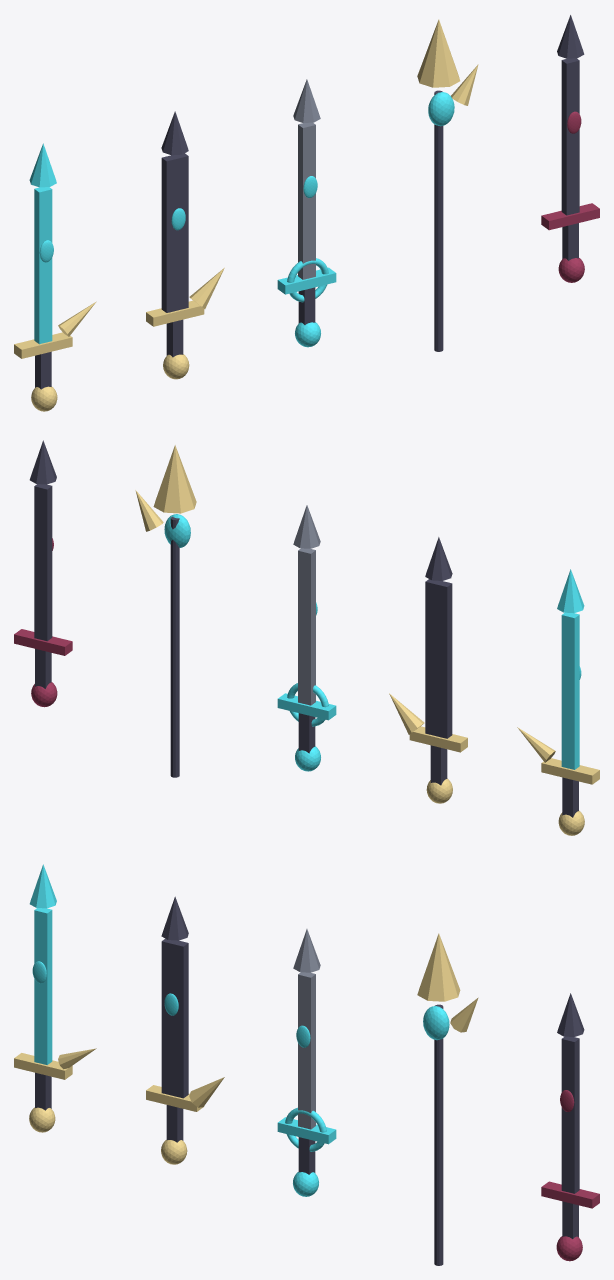
Rendered from legendary_weapons.glb.
3 views of the same model, one above another, from view 1: azimuth 30°, elevation 25°; view 2: azimuth 150°, elevation 25°; view 3: azimuth 330°, elevation 25° (orthographic).
Parts seen in each view (by area): view 1: Obsidian_blade, Demonblade_blade, Skybreaker_blade, Moonblade_blade, AzureSpear_shaft, AzureSpear_tip, Demonblade_guard, Skybreaker_guard, Moonblade_guard, Obsidian_guard, AzureSpear_gem, Skybreaker_tip (+12 smaller); view 2: Obsidian_blade, Demonblade_blade, Skybreaker_blade, Moonblade_blade, AzureSpear_shaft, AzureSpear_tip, Demonblade_guard, Skybreaker_guard, Moonblade_guard, Obsidian_guard, Skybreaker_tip, Demonblade_tip (+7 smaller); view 3: Obsidian_blade, Skybreaker_blade, Demonblade_blade, Moonblade_blade, AzureSpear_shaft, AzureSpear_tip, Demonblade_guard, Skybreaker_guard, Moonblade_guard, AzureSpear_gem, Moonblade_tip, Skybreaker_tip (+12 smaller).
Part boxes in pixels (left/top/right/bottom): Obsidian_blade: left=161, top=153, right=188, bottom=312; Demonblade_blade: left=561, top=58, right=579, bottom=215; Skybreaker_blade: left=34, top=187, right=52, bottom=344; Moonblade_blade: left=298, top=122, right=315, bottom=279; AzureSpear_shaft: left=434, top=90, right=443, bottom=351; AzureSpear_tip: left=417, top=19, right=460, bottom=87; Demonblade_guard: left=541, top=203, right=599, bottom=230; Skybreaker_guard: left=14, top=332, right=72, bottom=358; Moonblade_guard: left=277, top=267, right=336, bottom=294; Obsidian_guard: left=146, top=300, right=204, bottom=326; AzureSpear_gem: left=428, top=92, right=454, bottom=126; Skybreaker_tip: left=29, top=143, right=56, bottom=187; Obsidian_blade: left=425, top=579, right=452, bottom=738; Demonblade_blade: left=34, top=484, right=52, bottom=641; Skybreaker_blade: left=561, top=612, right=579, bottom=769; Moonblade_blade: left=298, top=548, right=315, bottom=705; AzureSpear_shaft: left=170, top=516, right=179, bottom=777; AzureSpear_tip: left=153, top=445, right=196, bottom=513; Demonblade_guard: left=14, top=629, right=72, bottom=655; Skybreaker_guard: left=541, top=758, right=599, bottom=784; Moonblade_guard: left=277, top=693, right=336, bottom=720; Obsidian_guard: left=409, top=726, right=467, bottom=752; Skybreaker_tip: left=557, top=569, right=584, bottom=613; Demonblade_tip: left=29, top=440, right=56, bottom=484; Obsidian_blade: left=161, top=938, right=188, bottom=1098; Skybreaker_blade: left=34, top=908, right=52, bottom=1064; Demonblade_blade: left=561, top=1036, right=579, bottom=1193; Moonblade_blade: left=298, top=972, right=315, bottom=1129; AzureSpear_shaft: left=434, top=1004, right=443, bottom=1265; AzureSpear_tip: left=417, top=933, right=460, bottom=1001; Demonblade_guard: left=541, top=1181, right=599, bottom=1208; Skybreaker_guard: left=14, top=1053, right=72, bottom=1079; Moonblade_guard: left=277, top=1117, right=336, bottom=1144; AzureSpear_gem: left=423, top=1006, right=449, bottom=1040; Moonblade_tip: left=293, top=929, right=320, bottom=972; Skybreaker_tip: left=29, top=864, right=56, bottom=908.
Size of the model in its own units: 6.58 by 3.6 by 0.44.
